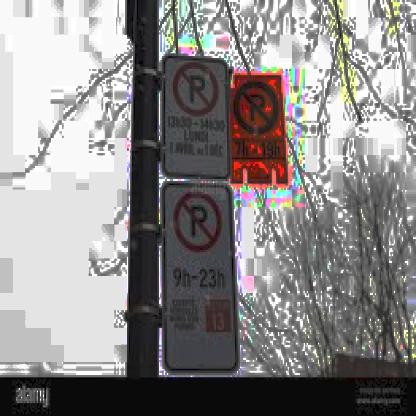No parking: (173, 187, 225, 255), (170, 61, 218, 118), (234, 80, 279, 134)
